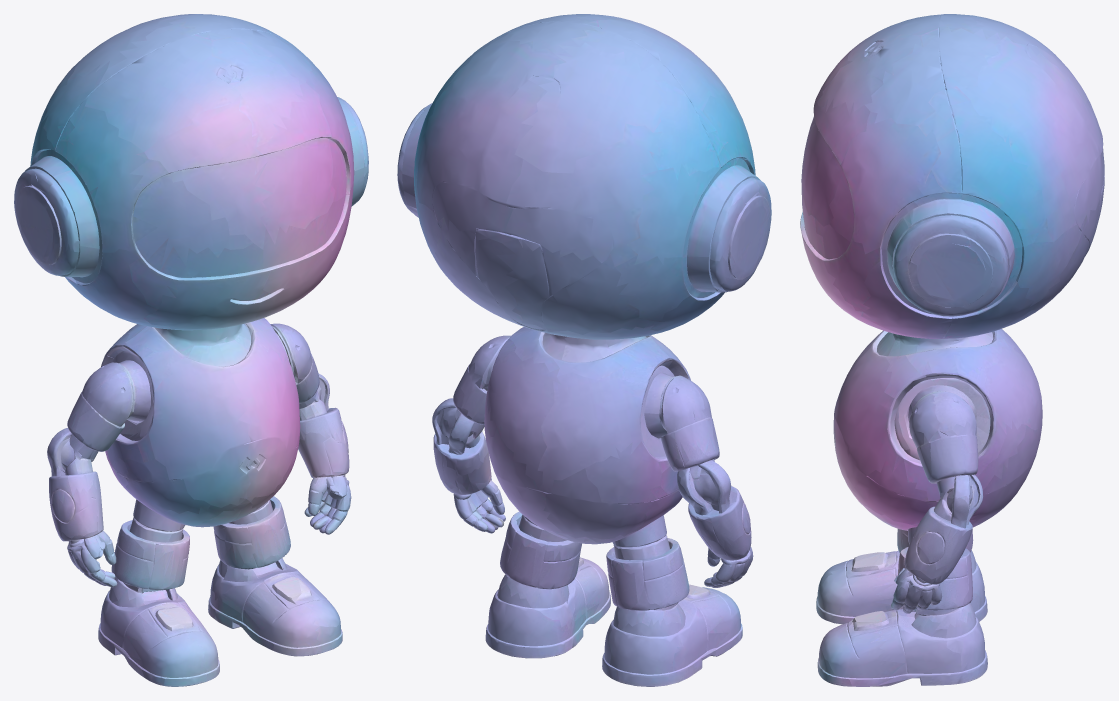
Rendered from agent.glb.
3 views of the same model, side by side, from view 1: azimuth 30°, elevation 25°; view 2: azimuth 150°, elevation 25°; view 3: azimuth 270°, elevation 25° (orthographic). The views are drawn at different scales.
Size of the model in its own units: 1.07 by 1.9 by 0.8638.
1 material, 1 textured.
